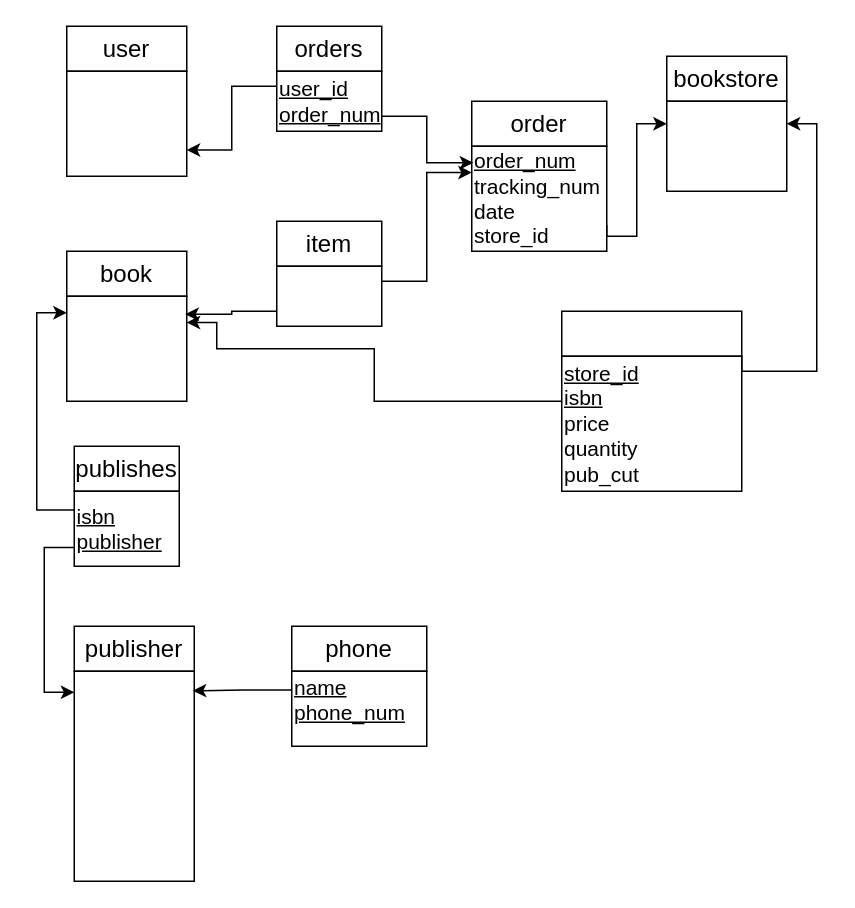
Image size: 855x908. Some labels were removed from this diagram. Here are the shapes that lost their labels. From the top down, the centre of each, then its label:
[126,123]: username password user_id email
[726,145]: store_id store_name
[328,295]: order_num isbn
[126,348]: isbn name genre page_num
[651,333]: carries
[133,775]: name country region city street house_num email bank_acc
